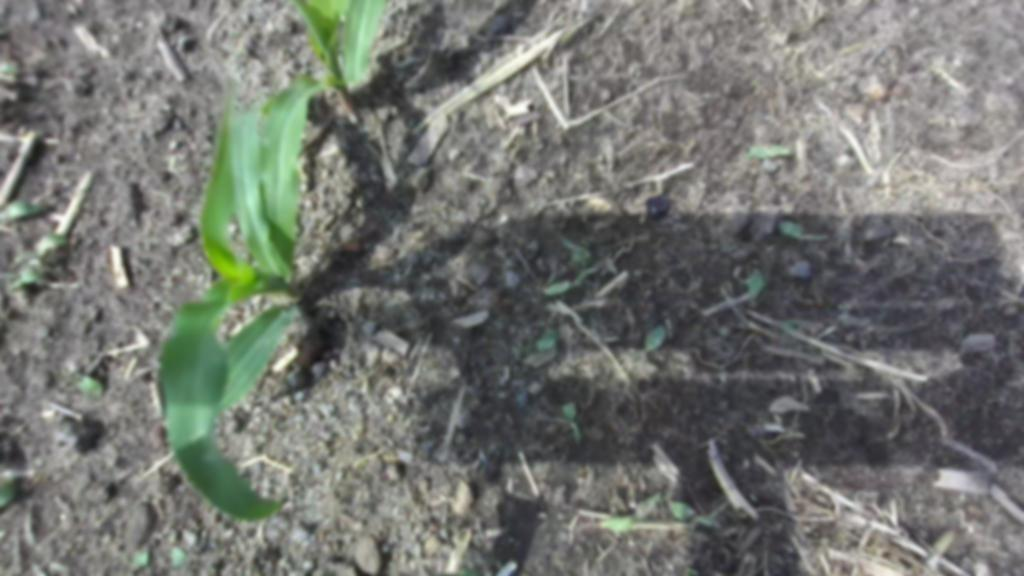BroWeed: (597, 483, 671, 543), (10, 225, 69, 272), (535, 263, 602, 302), (50, 362, 109, 403), (510, 324, 564, 367), (662, 495, 718, 535), (624, 322, 672, 367), (774, 216, 830, 251), (551, 227, 597, 269), (0, 189, 48, 227), (560, 400, 586, 447), (124, 545, 158, 575), (4, 267, 46, 291), (742, 142, 792, 161), (169, 28, 198, 60), (163, 543, 193, 572), (167, 222, 197, 250), (0, 470, 21, 510), (163, 263, 188, 291), (25, 254, 54, 278), (748, 267, 765, 305), (0, 264, 36, 280), (48, 261, 72, 284), (38, 246, 60, 267), (0, 62, 22, 74), (682, 564, 701, 576), (781, 317, 800, 329), (459, 565, 479, 576), (0, 528, 7, 544)
Maize: (145, 79, 324, 523)
